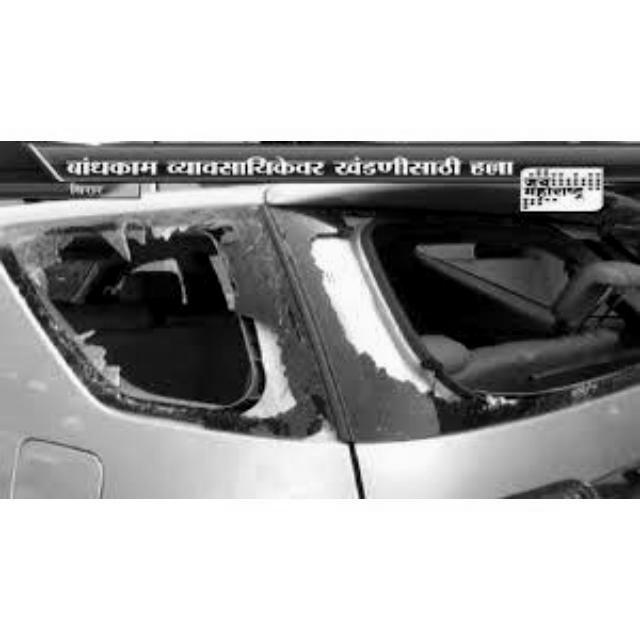Rear-windscreen-Damage: (321, 195, 638, 448), (9, 223, 314, 436)
